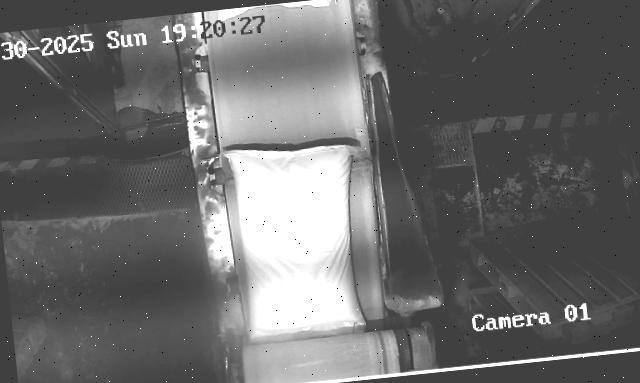bag: (225, 138, 376, 346), (210, 0, 339, 20)
